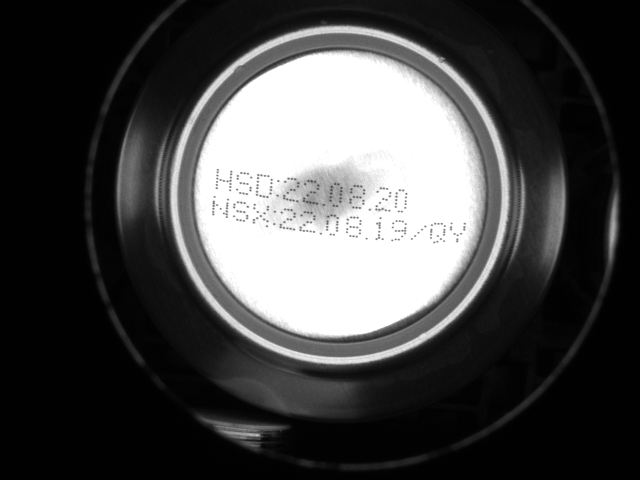/: (410, 219, 429, 245)
0: (394, 186, 413, 214), (327, 179, 343, 210), (323, 214, 342, 237)
1: (372, 215, 390, 240)
2: (372, 183, 396, 213), (278, 175, 301, 204), (302, 177, 322, 206), (275, 206, 295, 232), (300, 211, 318, 236)
8: (348, 180, 370, 209), (344, 214, 368, 239)
9: (392, 216, 408, 243)
D: (254, 173, 276, 199)
H: (212, 169, 236, 194)
N: (212, 198, 232, 220)
Q: (430, 222, 448, 244)
S: (232, 199, 252, 224), (236, 172, 252, 196)
X: (254, 204, 272, 227)
Y: (450, 220, 468, 245)
